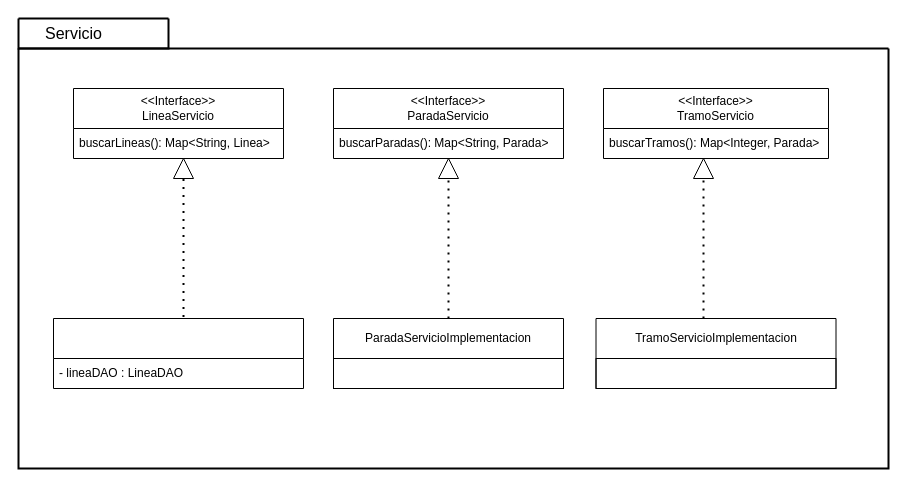
Image size: 906x486. Some labels were removed from this diagram. The shapes that lost their labels are listed below. From the top down, each one's box as (x1, y1, x2, y2) in pixels, then its label:
(52, 318, 304, 388): LineaServicioImplementacion
(332, 358, 564, 388): - paradaDAO : ParadaDAO
(595, 358, 836, 388): - tramoDAO : TramoDAO
